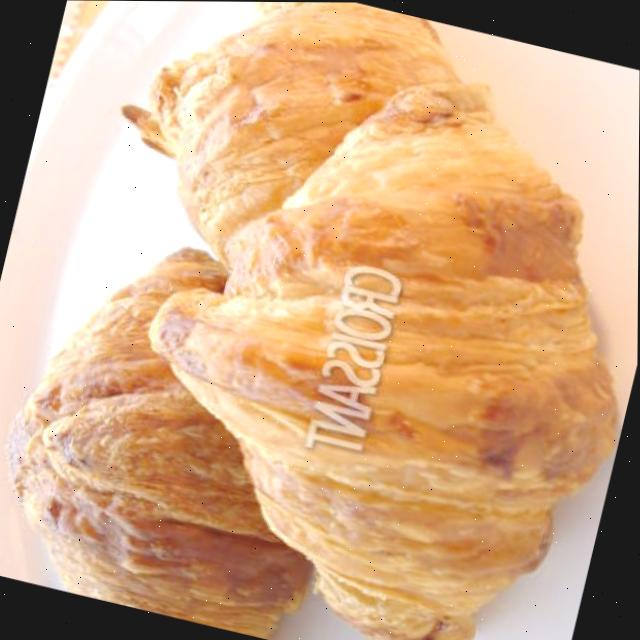面包点心: (92, 7, 640, 640)
